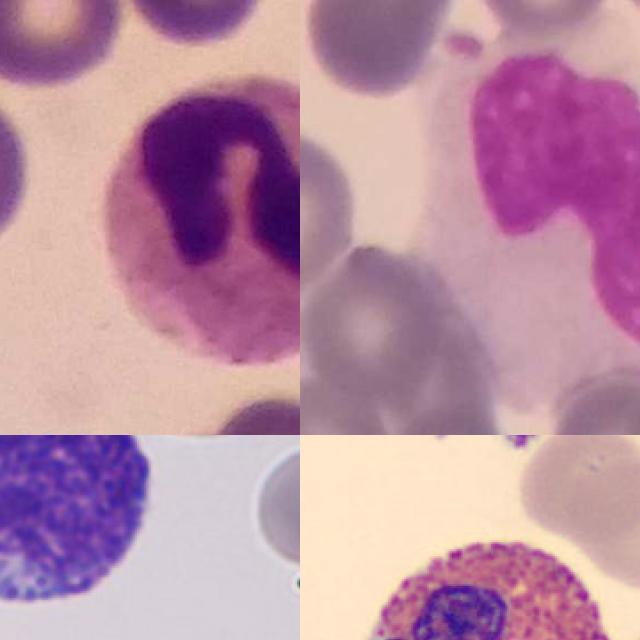Eosinophil: (340, 515, 631, 640)
Lymphocyte: (0, 435, 167, 621)
Monocyte: (421, 19, 640, 408)
Neutrophil: (100, 73, 300, 370)
Platelets: (492, 435, 546, 453)
RBC: (514, 435, 640, 543), (571, 452, 640, 595), (247, 435, 300, 576)
